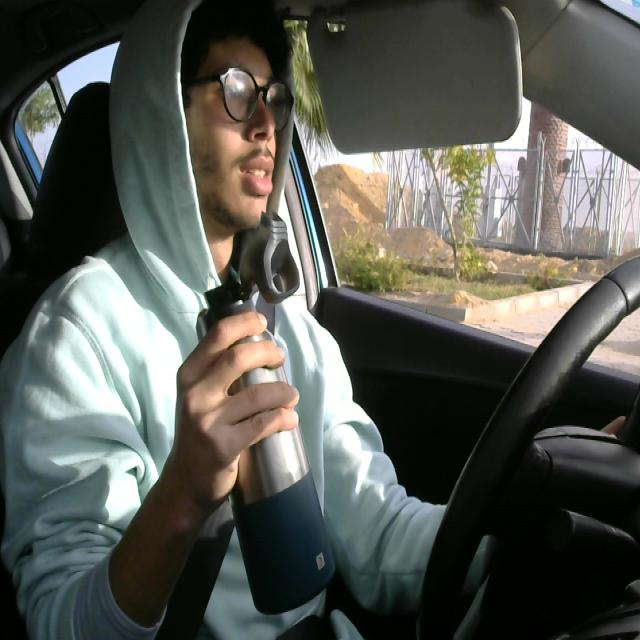drinking: (197, 206, 338, 622)
